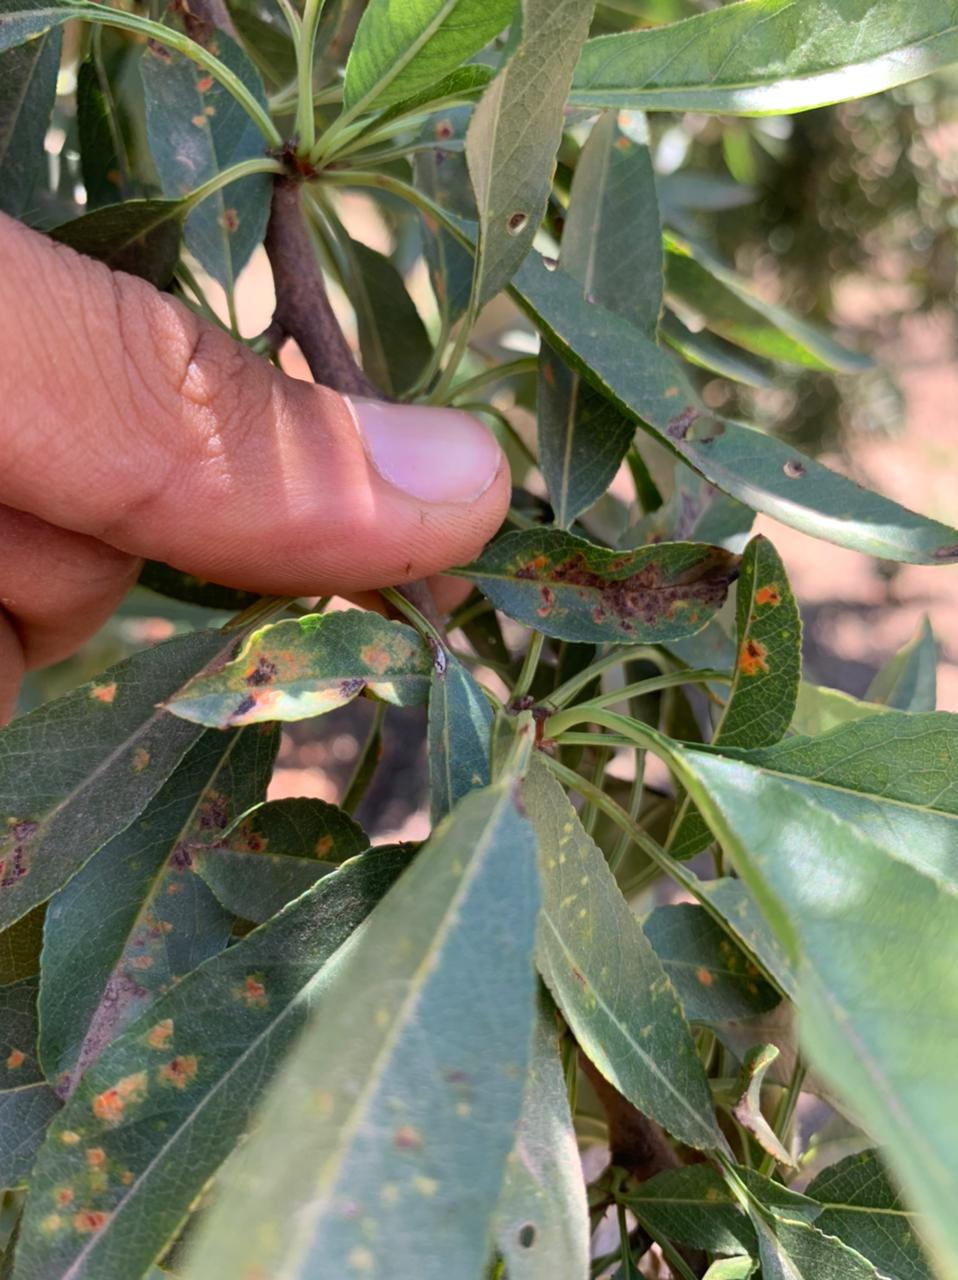polystigma: (428, 204, 958, 568), (16, 838, 433, 1280), (186, 776, 543, 1280), (437, 654, 732, 1153), (1, 625, 247, 927), (136, 18, 282, 283), (160, 603, 429, 730), (475, 527, 740, 649), (716, 534, 805, 752)
